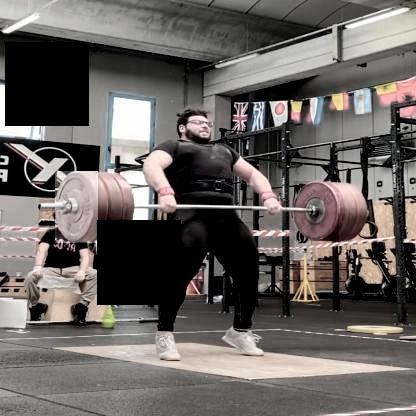barbell: (54, 173, 96, 244), (293, 182, 338, 242)
